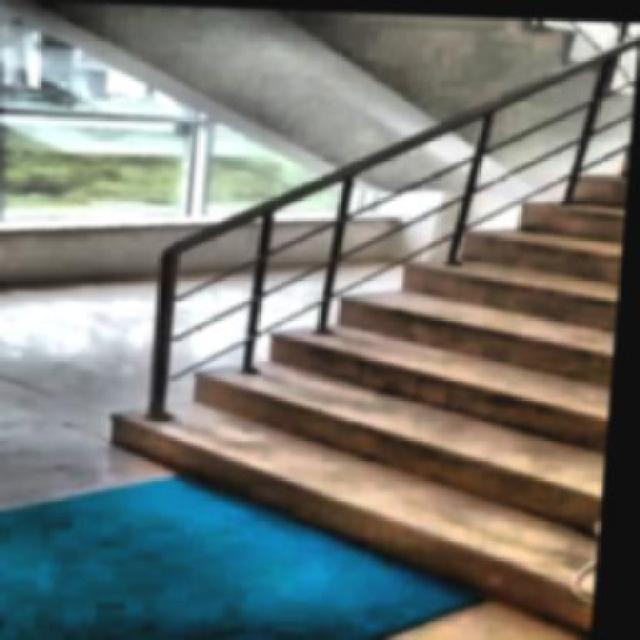stair: (85, 94, 632, 638)
